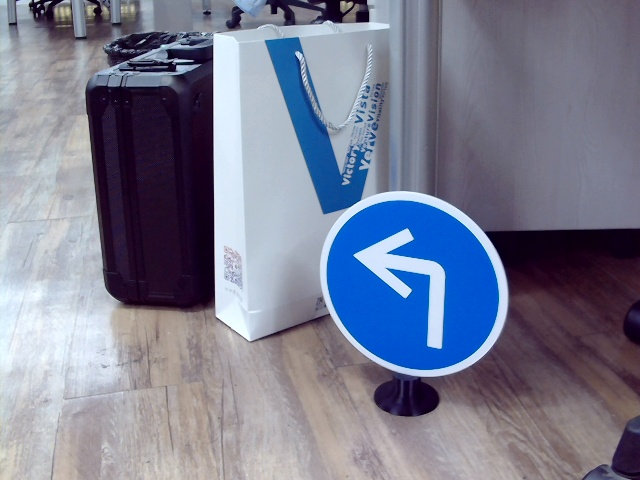turn_left: (353, 227, 459, 347)
